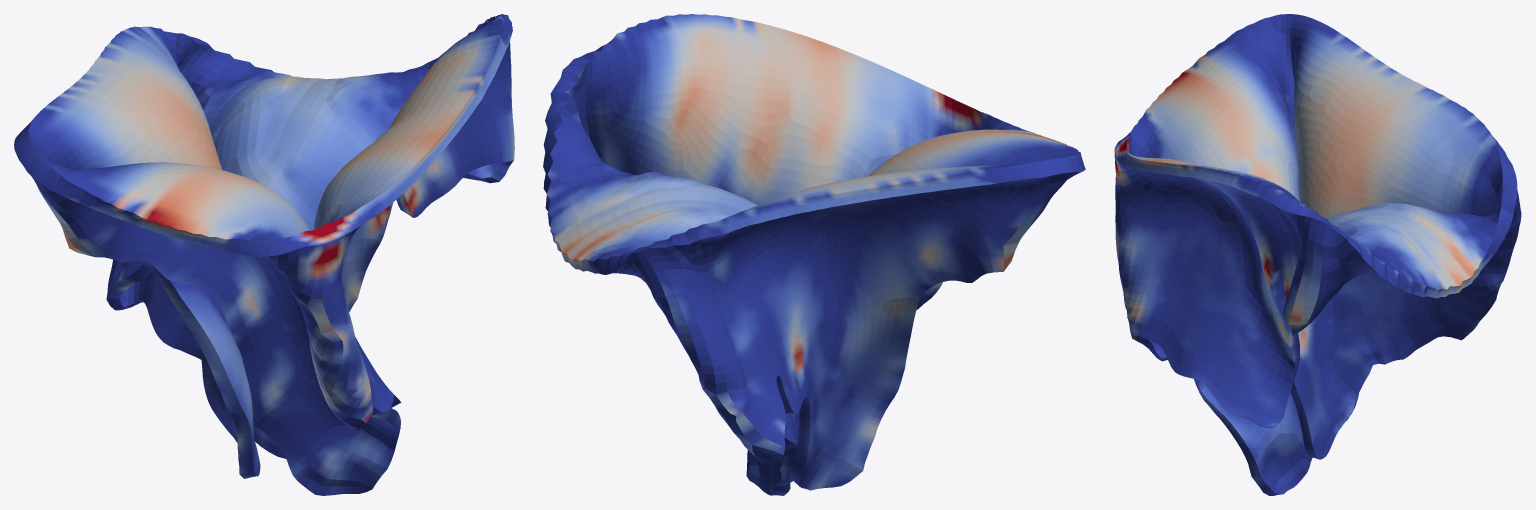
The model's file is 3Dtest.glb.
The picture shows the model from 3 angles, left to right: view 1: azimuth 30°, elevation 25°; view 2: azimuth 150°, elevation 25°; view 3: azimuth 270°, elevation 25°; orthographic projection. The views are drawn at different scales.
Visible parts, largest first — view 1: 1125_F13_MaxPrincS; view 2: 1125_F13_MaxPrincS; view 3: 1125_F13_MaxPrincS.
Boxes of the visible parts, bbox=[...] form: 1125_F13_MaxPrincS: bbox=[14, 14, 514, 495]; 1125_F13_MaxPrincS: bbox=[543, 14, 1085, 495]; 1125_F13_MaxPrincS: bbox=[1114, 14, 1521, 495].
Size of the model in its own units: 28.09 by 23.34 by 23.26.
